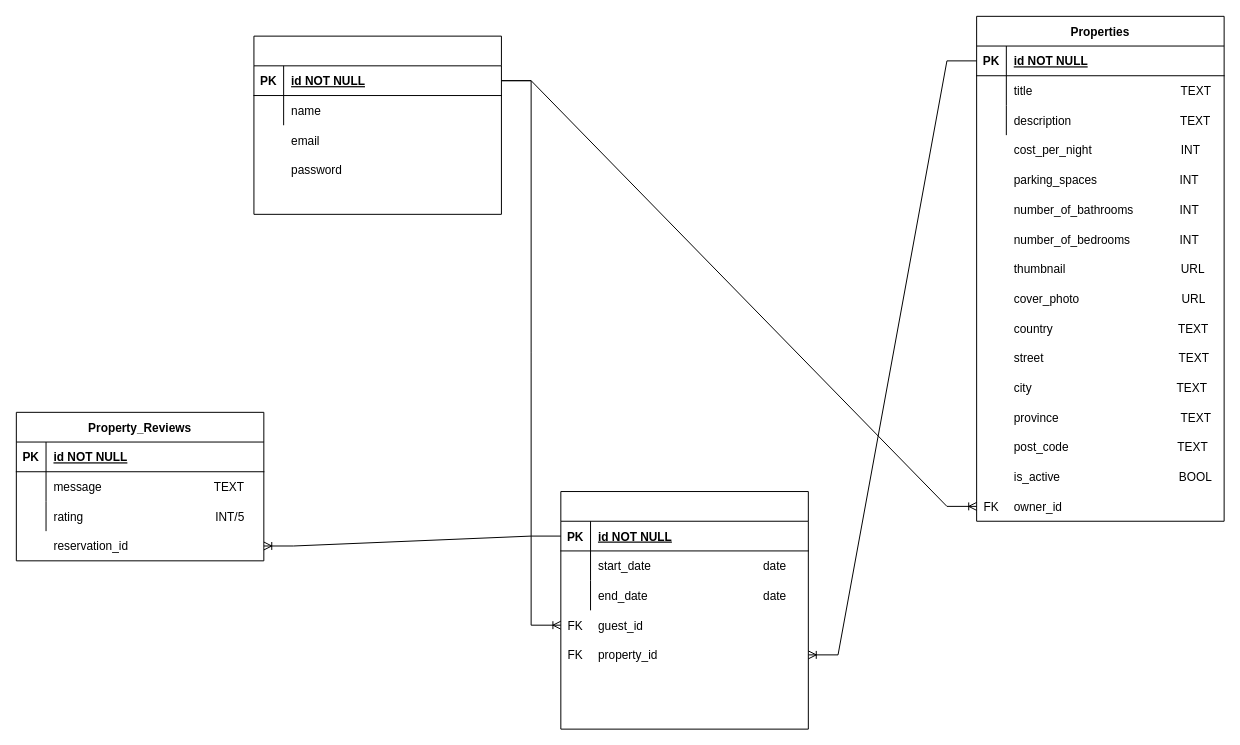
This 1240x745 diagram has some shape labels left out. Here are the shapes that lost their labels. From the top down, the box of each, then its label:
(253, 35, 501, 214): Users
(560, 491, 808, 729): Reservations
